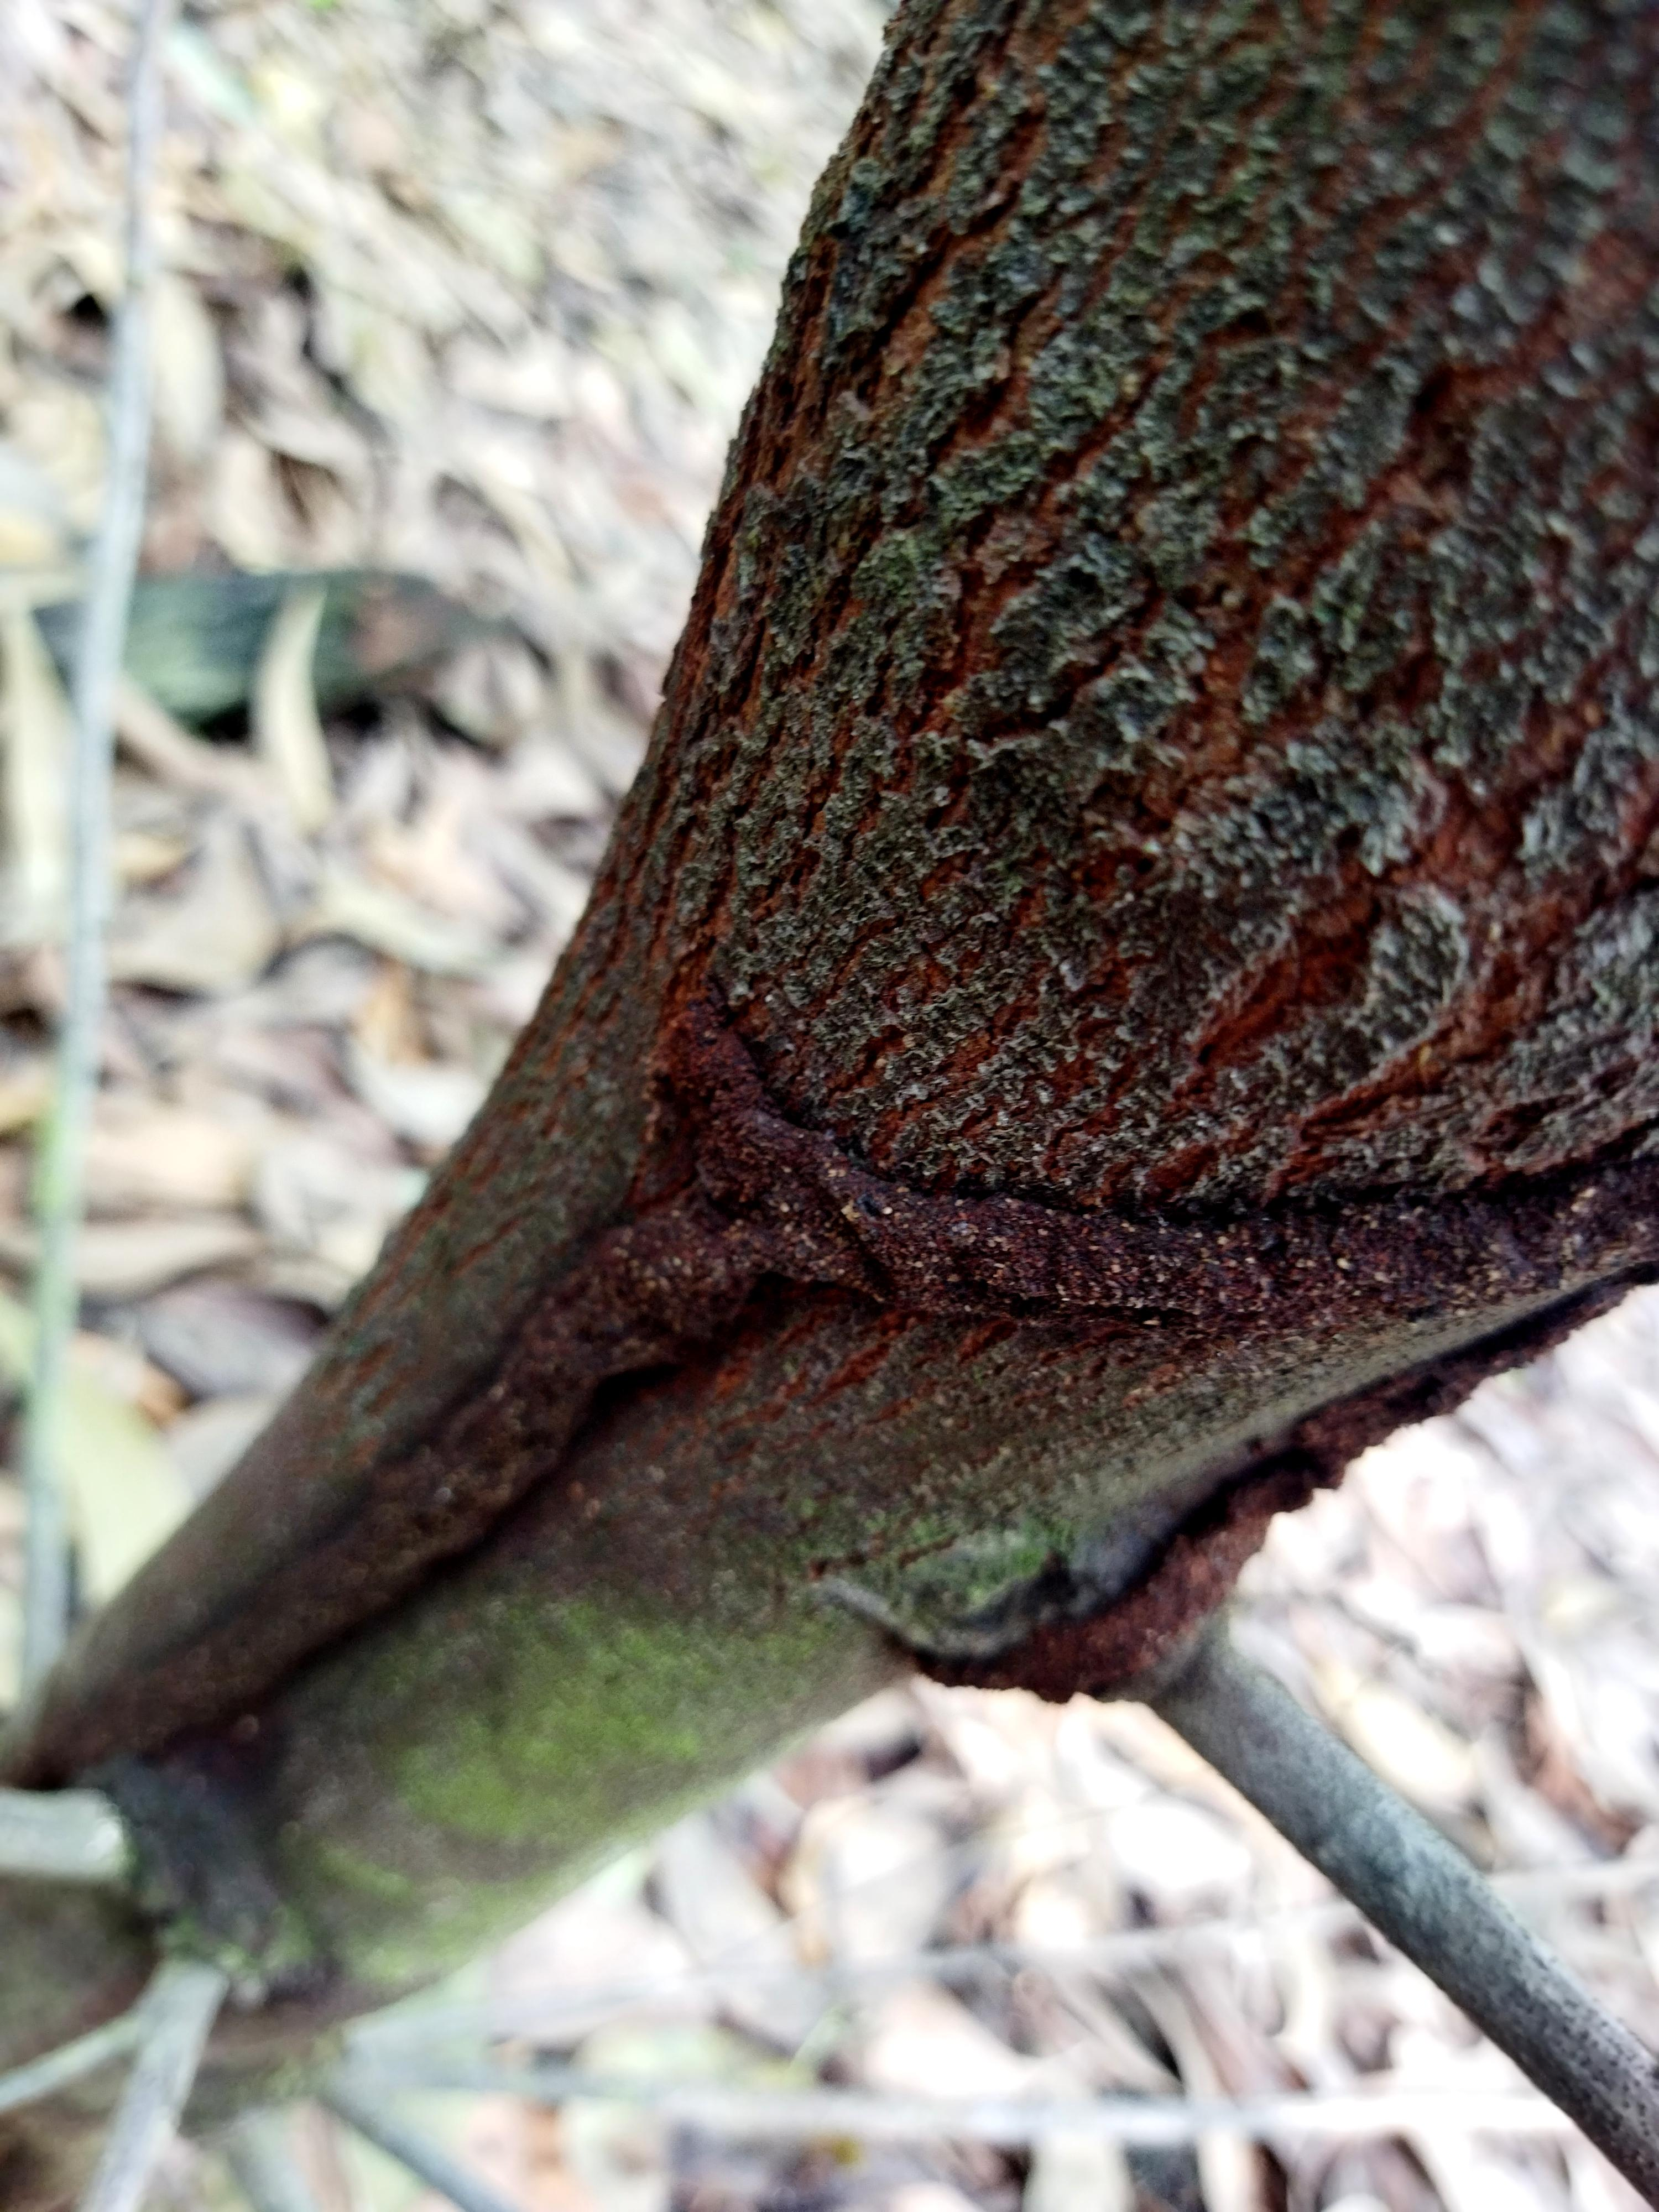Termite - Nest: (631, 963, 1659, 1411), (45, 1212, 612, 1775)
